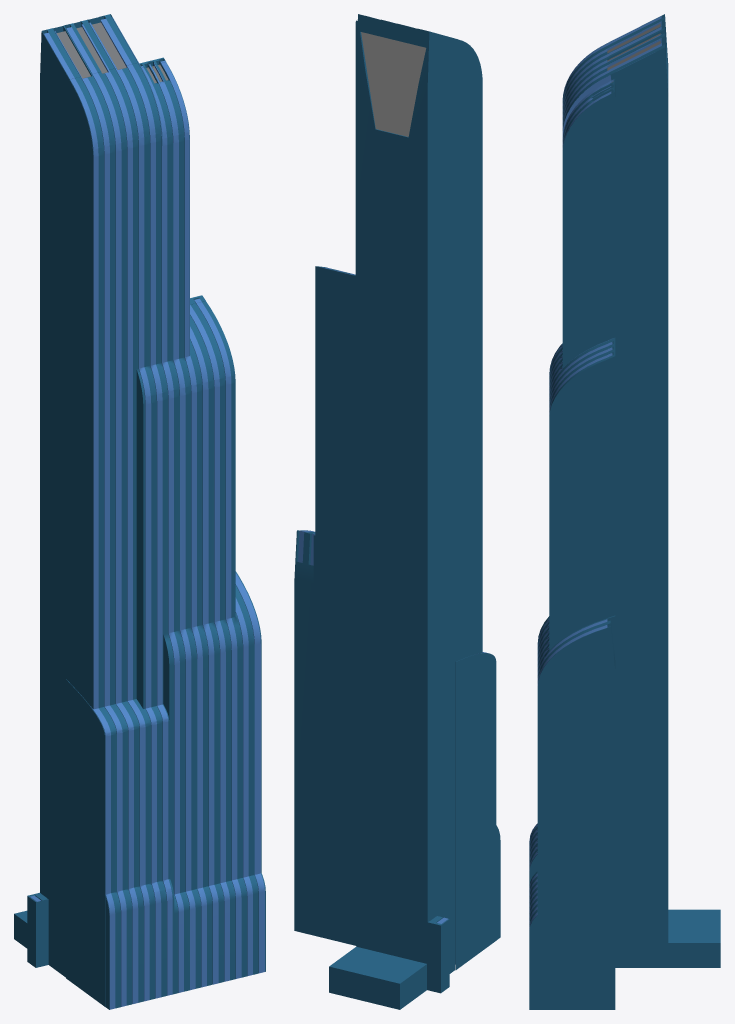
File: one57.glb
3 views of the same model, side by side, from view 1: azimuth 30°, elevation 25°; view 2: azimuth 150°, elevation 25°; view 3: azimuth 270°, elevation 25° (orthographic). The views are drawn at different scales.
Visible parts, largest first — view 1: Object_2, Object_4, Object_3; view 2: Object_2, Object_5; view 3: Object_2, Object_4, Object_3.
Part boxes in pixels (<box>): Object_2: <box>14,14,265,1009</box>; Object_4: <box>30,17,264,1009</box>; Object_3: <box>57,22,168,83</box>; Object_2: <box>294,14,500,1009</box>; Object_5: <box>361,32,426,136</box>; Object_2: <box>529,14,720,1009</box>; Object_4: <box>529,16,661,929</box>; Object_3: <box>607,23,660,82</box>.
Size of the model in its own units: 29.2 by 154 by 28.9.
